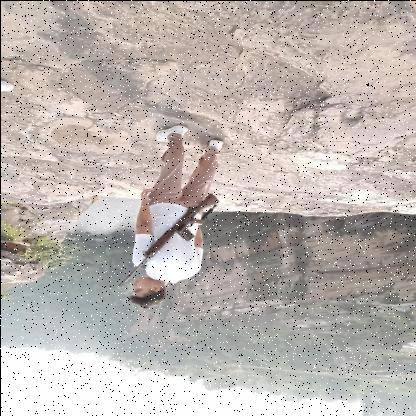rifle: (114, 191, 220, 289)
